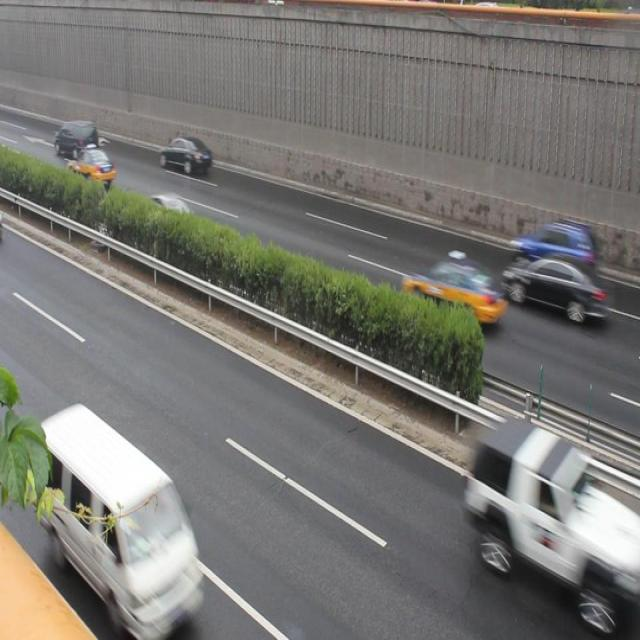car: (466, 416, 622, 610), (498, 254, 604, 328), (402, 255, 503, 328), (510, 219, 592, 273), (132, 191, 198, 245), (158, 134, 212, 178), (68, 147, 116, 185)
truck: (34, 399, 207, 626), (53, 118, 100, 162)
